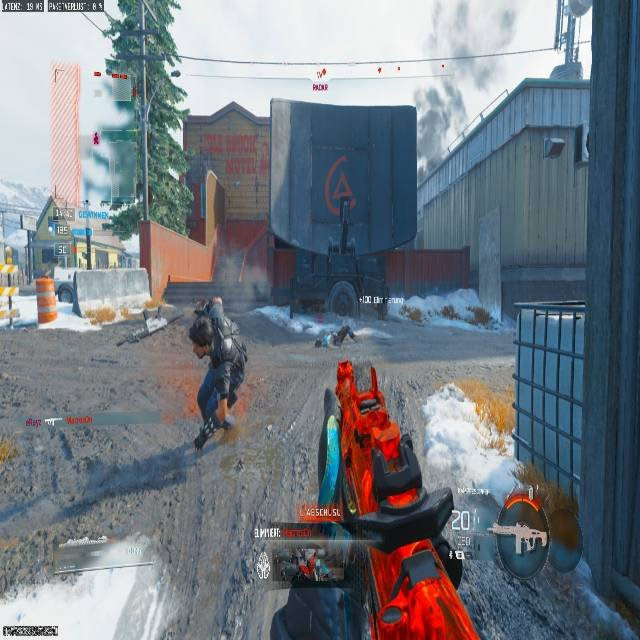head: (189, 306, 216, 342), (205, 297, 225, 318)
player: (189, 297, 247, 453)
